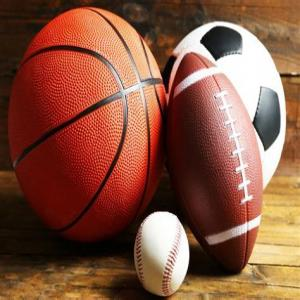Basket: (8, 6, 168, 247)
Football: (160, 20, 286, 194)
Rugby: (168, 48, 264, 274)
